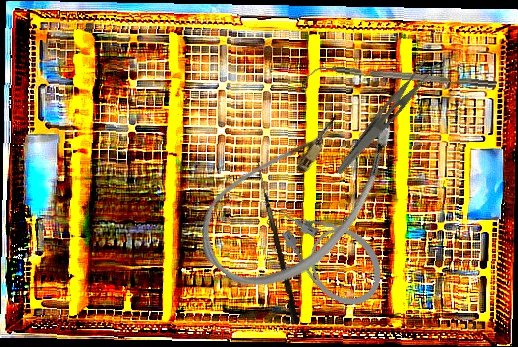Cannula: (181, 68, 416, 317), (263, 180, 397, 320)
Chopper: (307, 61, 497, 98)
Dressing Forceps: (335, 50, 442, 185)
Hook Surgical: (247, 155, 303, 325)
